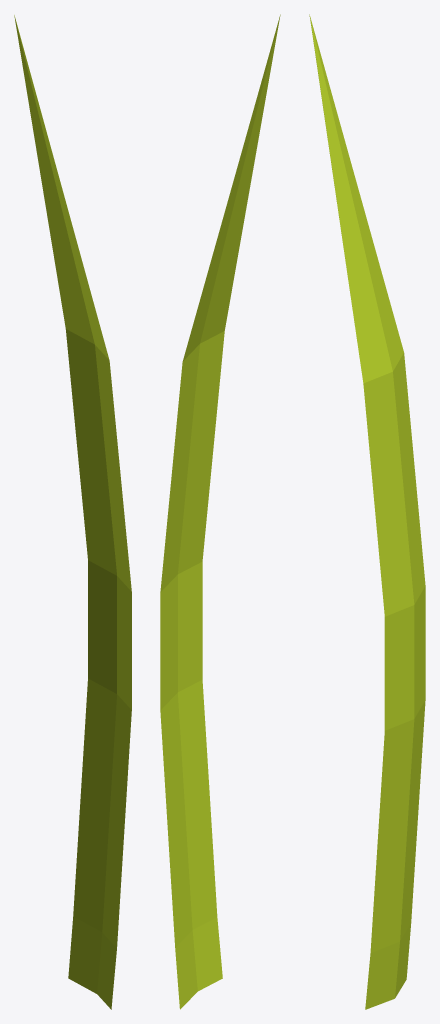
File: grass1.fbx
3 renders of one model, left to right at view 1: azimuth 30°, elevation 25°; view 2: azimuth 150°, elevation 25°; view 3: azimuth 330°, elevation 25°, orthographic. The views are drawn at different scales.
Parts seen in each view (by area): view 1: grass1; view 2: grass1; view 3: grass1.
Part boxes in pixels (left/top/right/bottom): grass1: left=14, top=15, right=131, bottom=1009; grass1: left=160, top=14, right=280, bottom=1009; grass1: left=309, top=14, right=425, bottom=1009.
Size of the model in its own units: 4.91 by 43.06 by 3.37.
